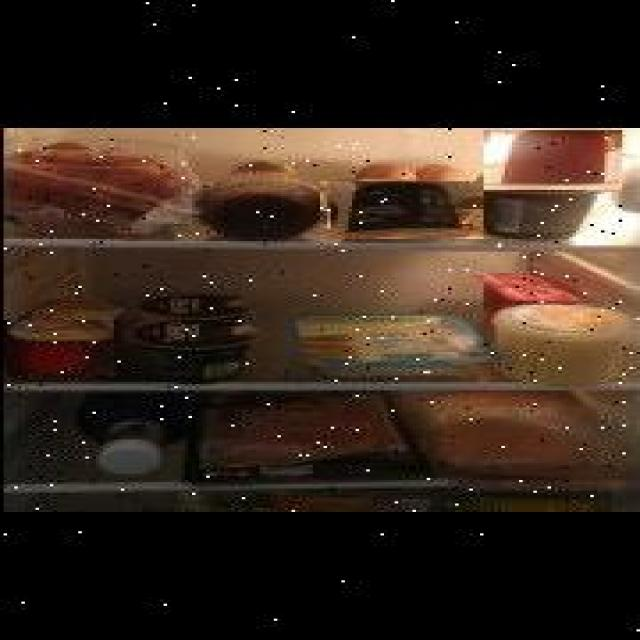yogurt: (322, 181, 478, 239), (484, 130, 622, 190), (3, 320, 114, 375)
